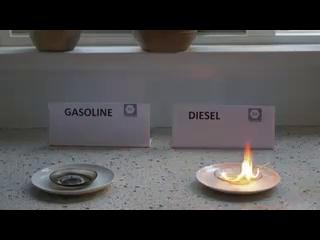Fire: (220, 132, 260, 183)
